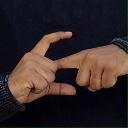hand: (6, 30, 76, 104), (55, 43, 127, 91)
